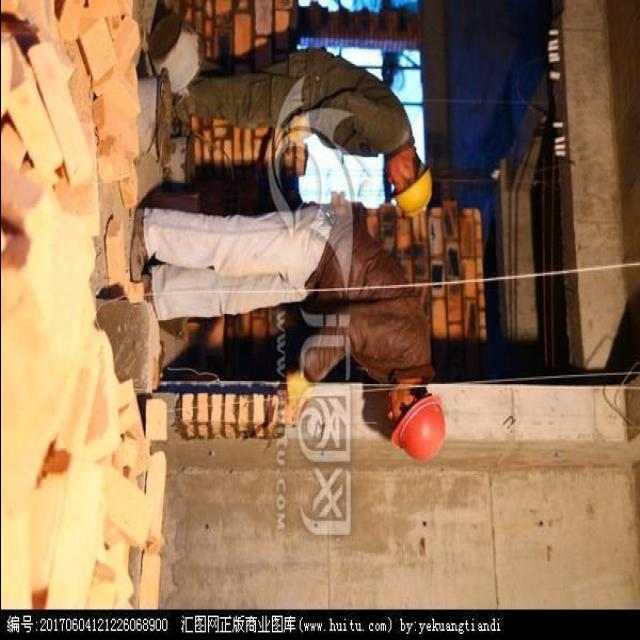helmet: (387, 373, 451, 468), (388, 160, 440, 218)
